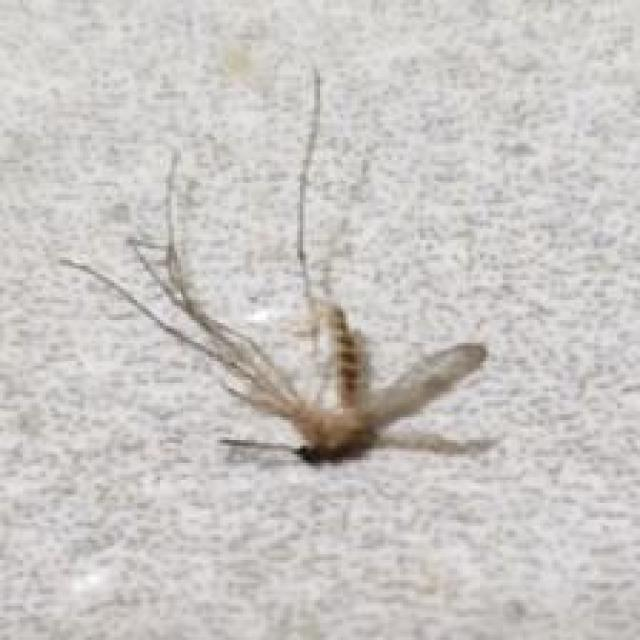Culex: (59, 60, 502, 469)
